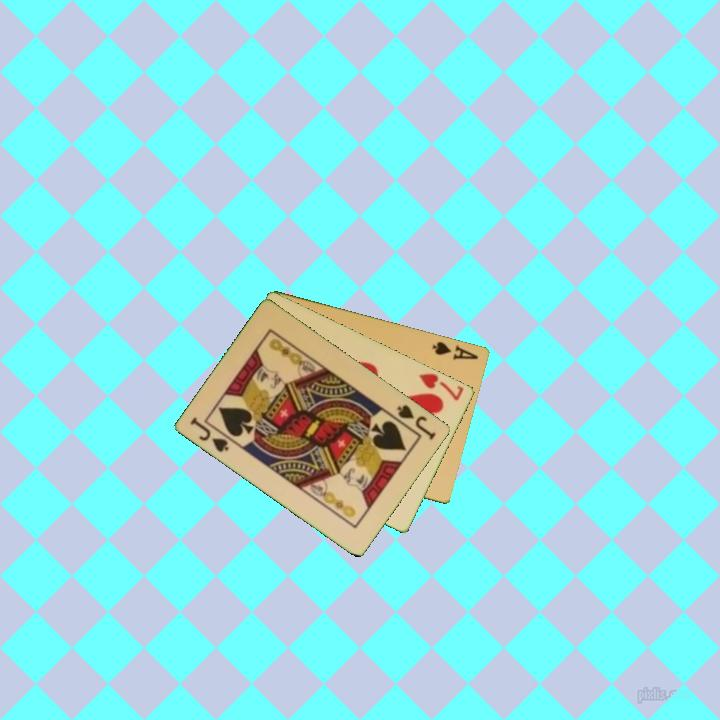7h: (416, 369, 467, 403)
As: (429, 337, 481, 363)
Js: (393, 401, 439, 443), (187, 413, 232, 455)
